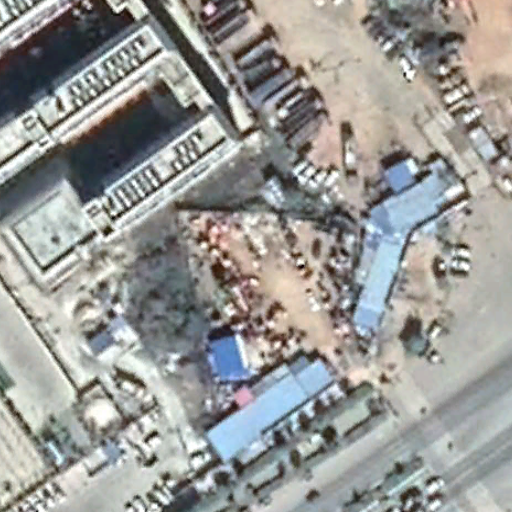msw: (190, 210, 358, 371)
